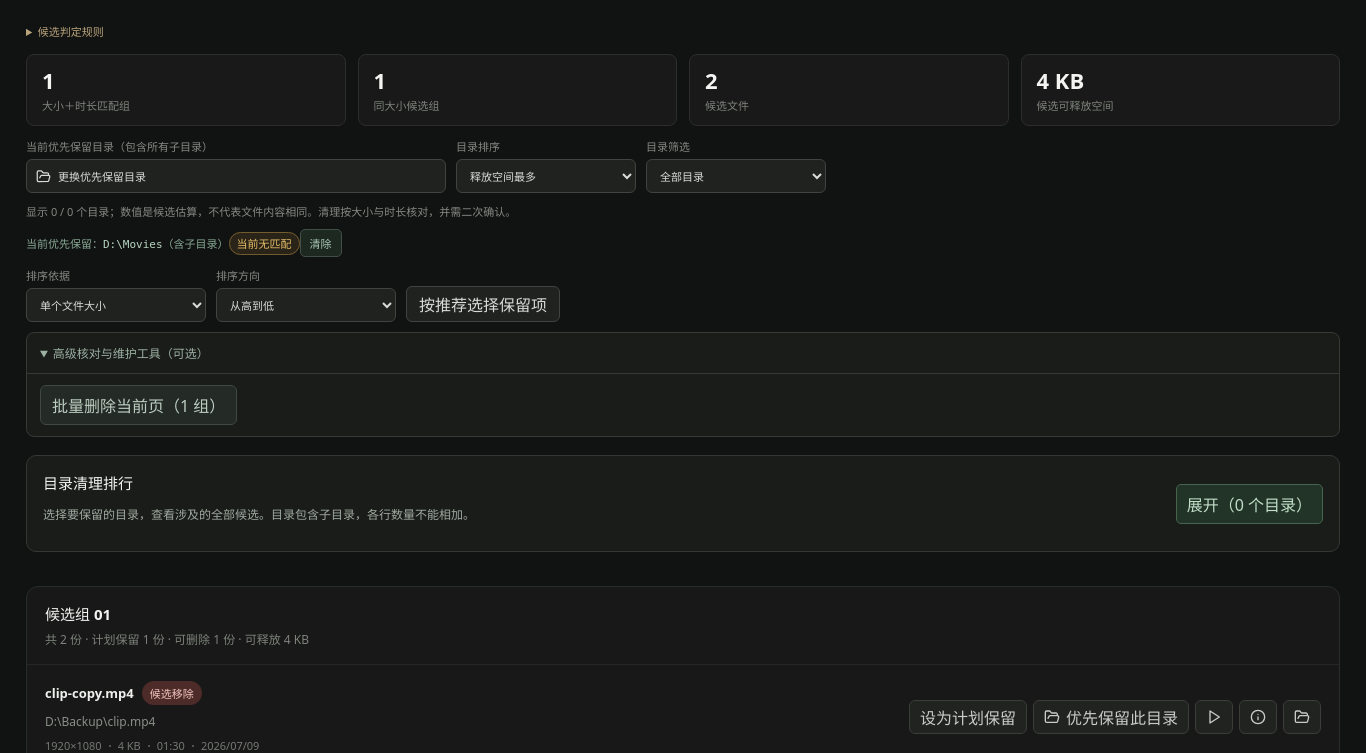
it: DuplicateGroupsPage staged safety flow › submits every candidate removal item for verified automatic deletion without a confirmation dialog
Click the button "批量删除当前页（1 组）" at (139, 405), box x1=40 y1=385 x2=237 y2=425
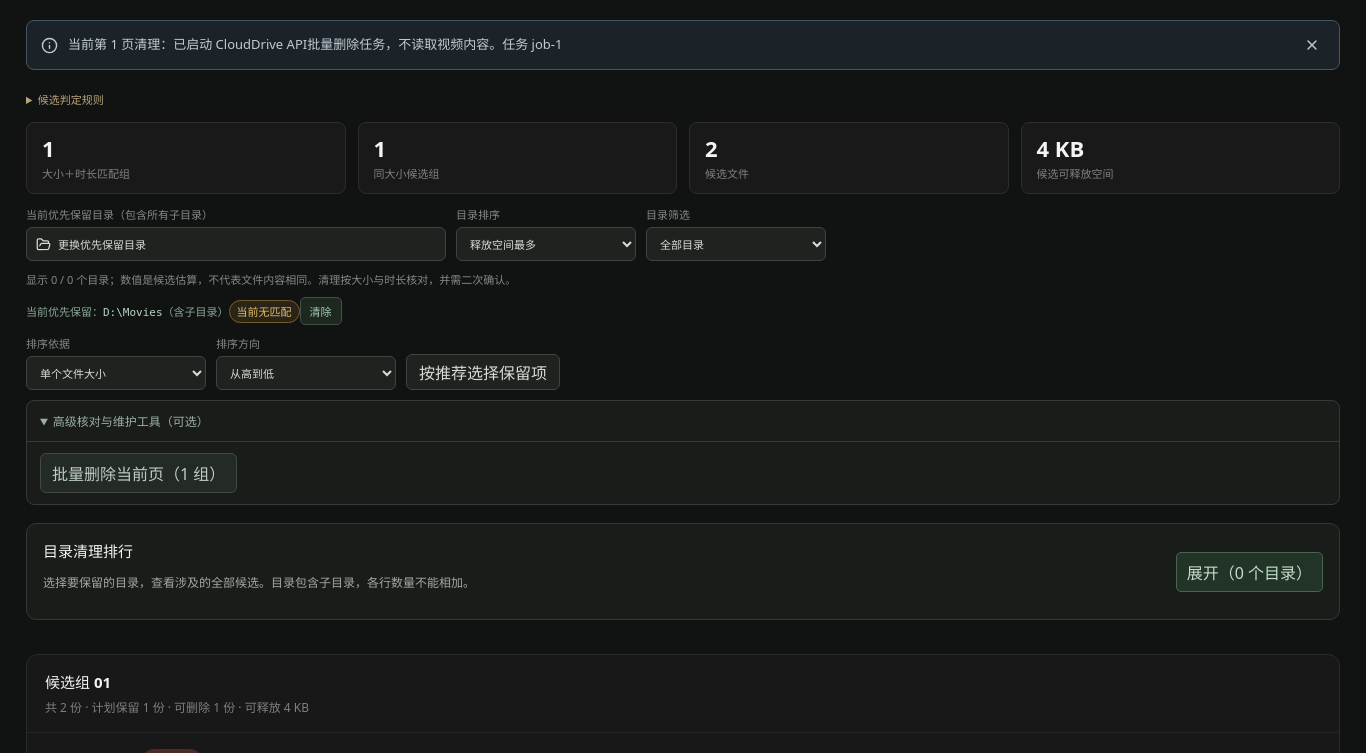
Expected: the text "当前第 1 页清理：已启动 CloudDrive API批量删除任务，不读取视频内容。任务 job-1" is shown, x1=68 y1=35 x2=562 y2=53
